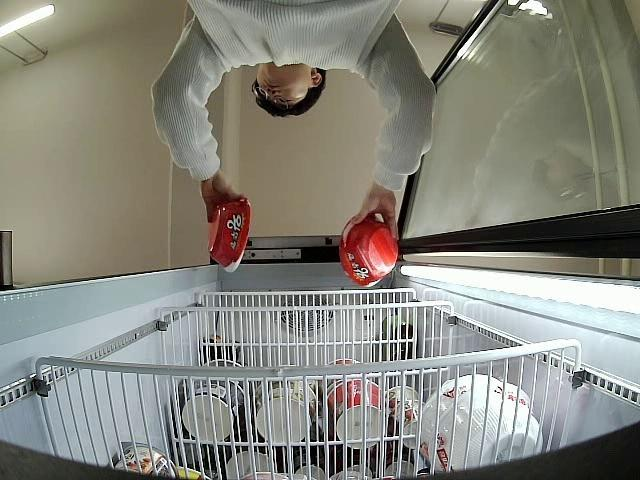10_wangTtukkeong: (339, 214, 398, 290), (202, 196, 255, 272)
